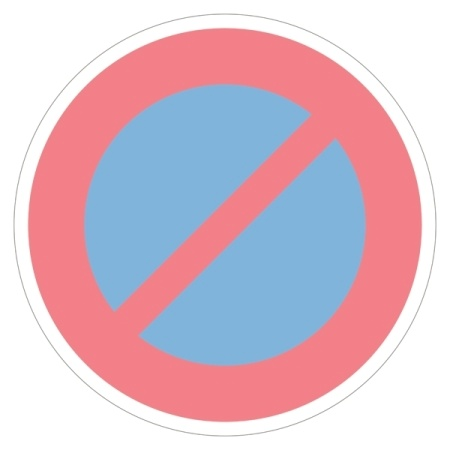Prohibition_sign: (1, 1, 449, 446)
